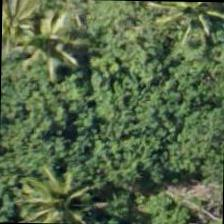Kelapa_Sawit: (14, 0, 107, 89), (16, 154, 108, 223)
